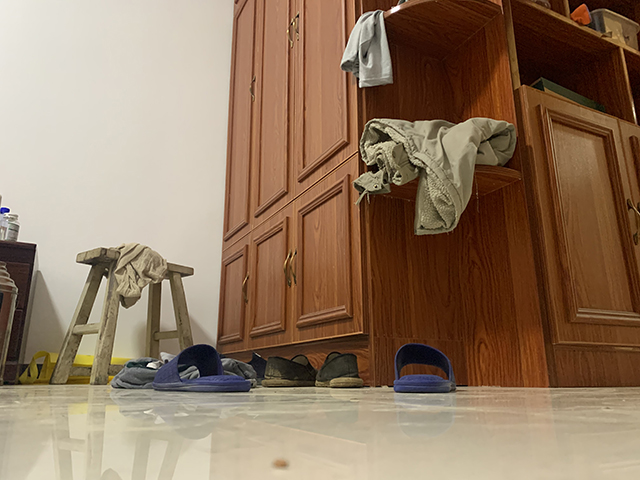cabinet: (217, 1, 640, 389)
slippers: (153, 343, 251, 393), (392, 342, 456, 393)
stool: (50, 247, 194, 385)
